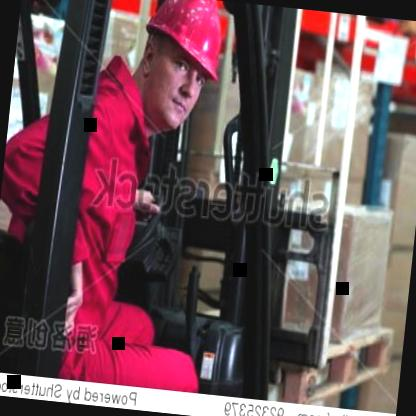helmet: (119, 0, 240, 145)
